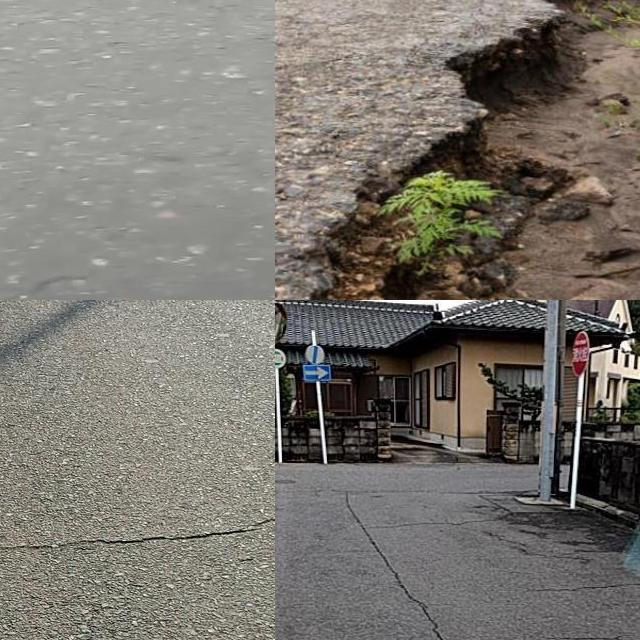Melintang: (0, 505, 275, 571)
Memanjang: (322, 489, 459, 640)
Pinggir: (298, 0, 633, 300)
